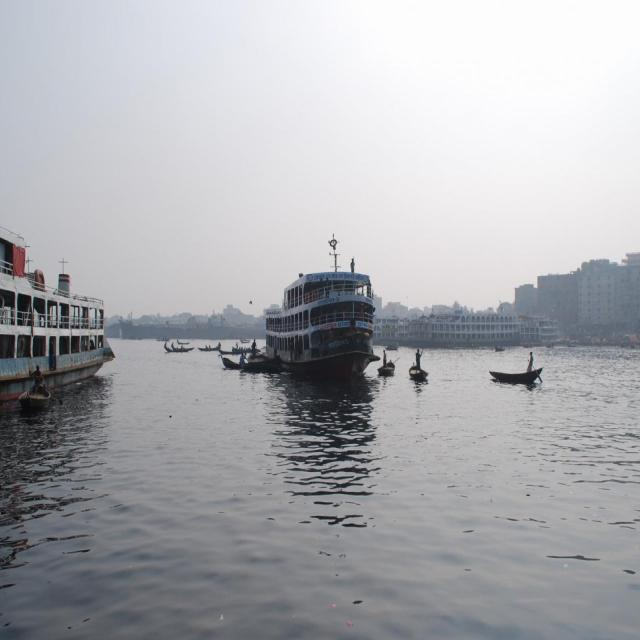passenger ship: (0, 230, 128, 388), (245, 240, 386, 378)
